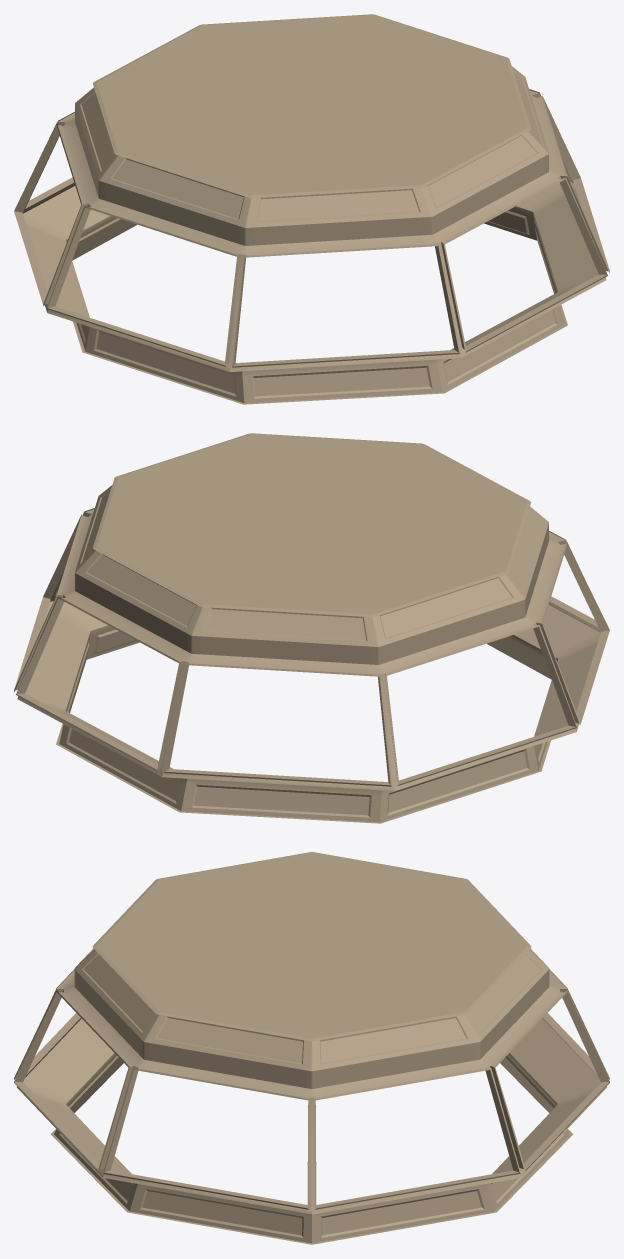
The picture shows the model from 3 angles, top to bottom: view 1: azimuth 30°, elevation 25°; view 2: azimuth 150°, elevation 25°; view 3: azimuth 270°, elevation 25°; orthographic projection.
Parts seen in each view (by area): view 1: Sqlle; view 2: Sqlle; view 3: Sqlle.
Part boxes in pixels (x1,y1,x2,y2): Sqlle: [14, 14, 609, 404]; Sqlle: [14, 433, 609, 823]; Sqlle: [14, 852, 609, 1244].
Size of the model in its own units: 938 by 321 by 920.
